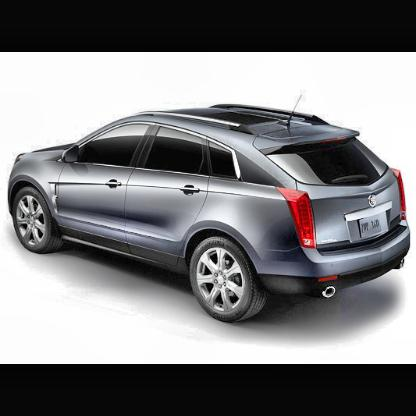Cadillac SRX SUV 2012: (8, 104, 412, 326)
